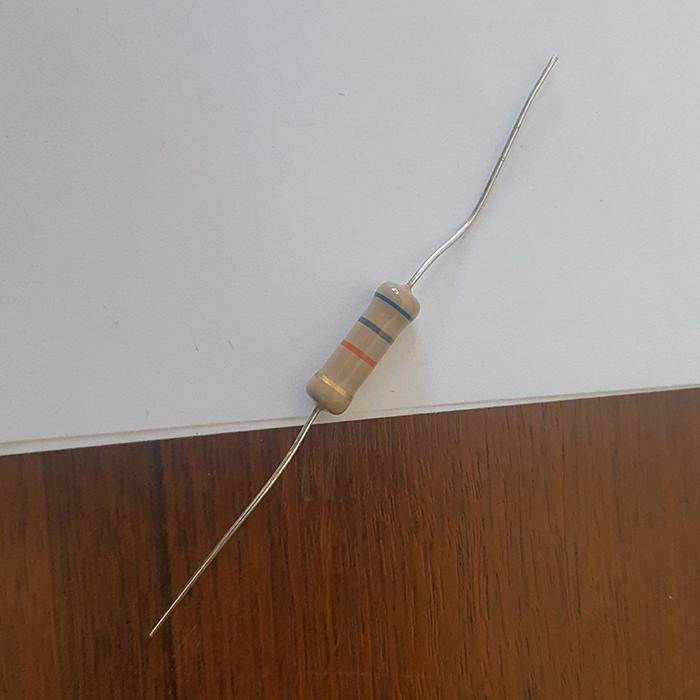resistor: (306, 280, 416, 413)
